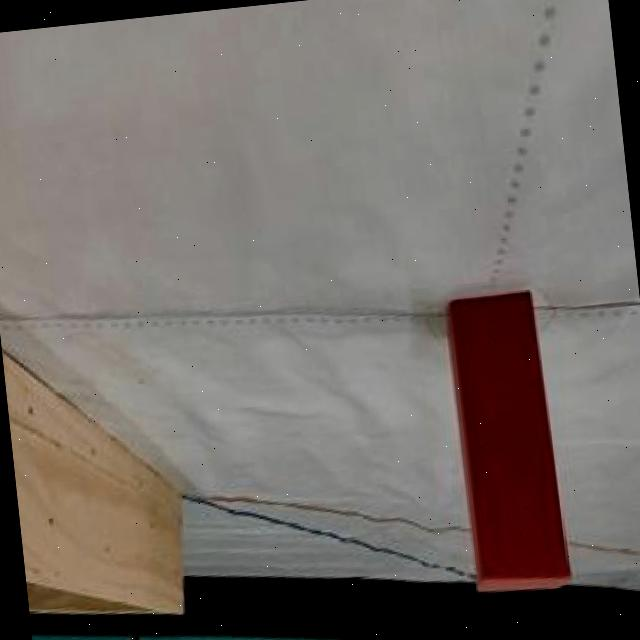redbox: (442, 288, 570, 601)
